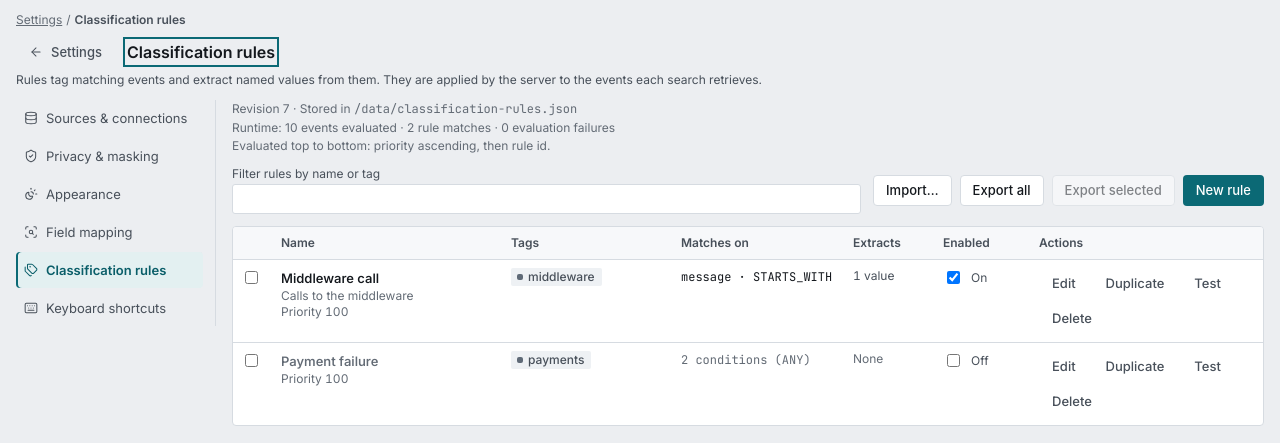
Test: ClassificationRulesWorkspace - list › filters rules by name or tag
expect the table is shown: met, box [233,227,1263,425]
Type "payments" into the search field labelled "Filter rules by name or tag" at (547, 199), box [232,184,861,214]
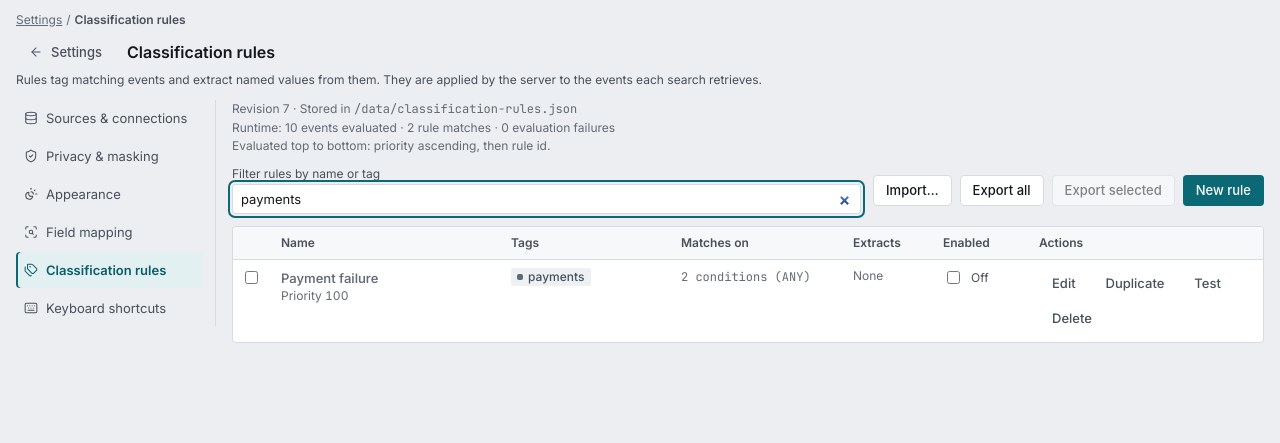
expect the text "Payment failure" is shown: met, box [281,270,378,286]
expect the text "Middleware call" is gone: met
